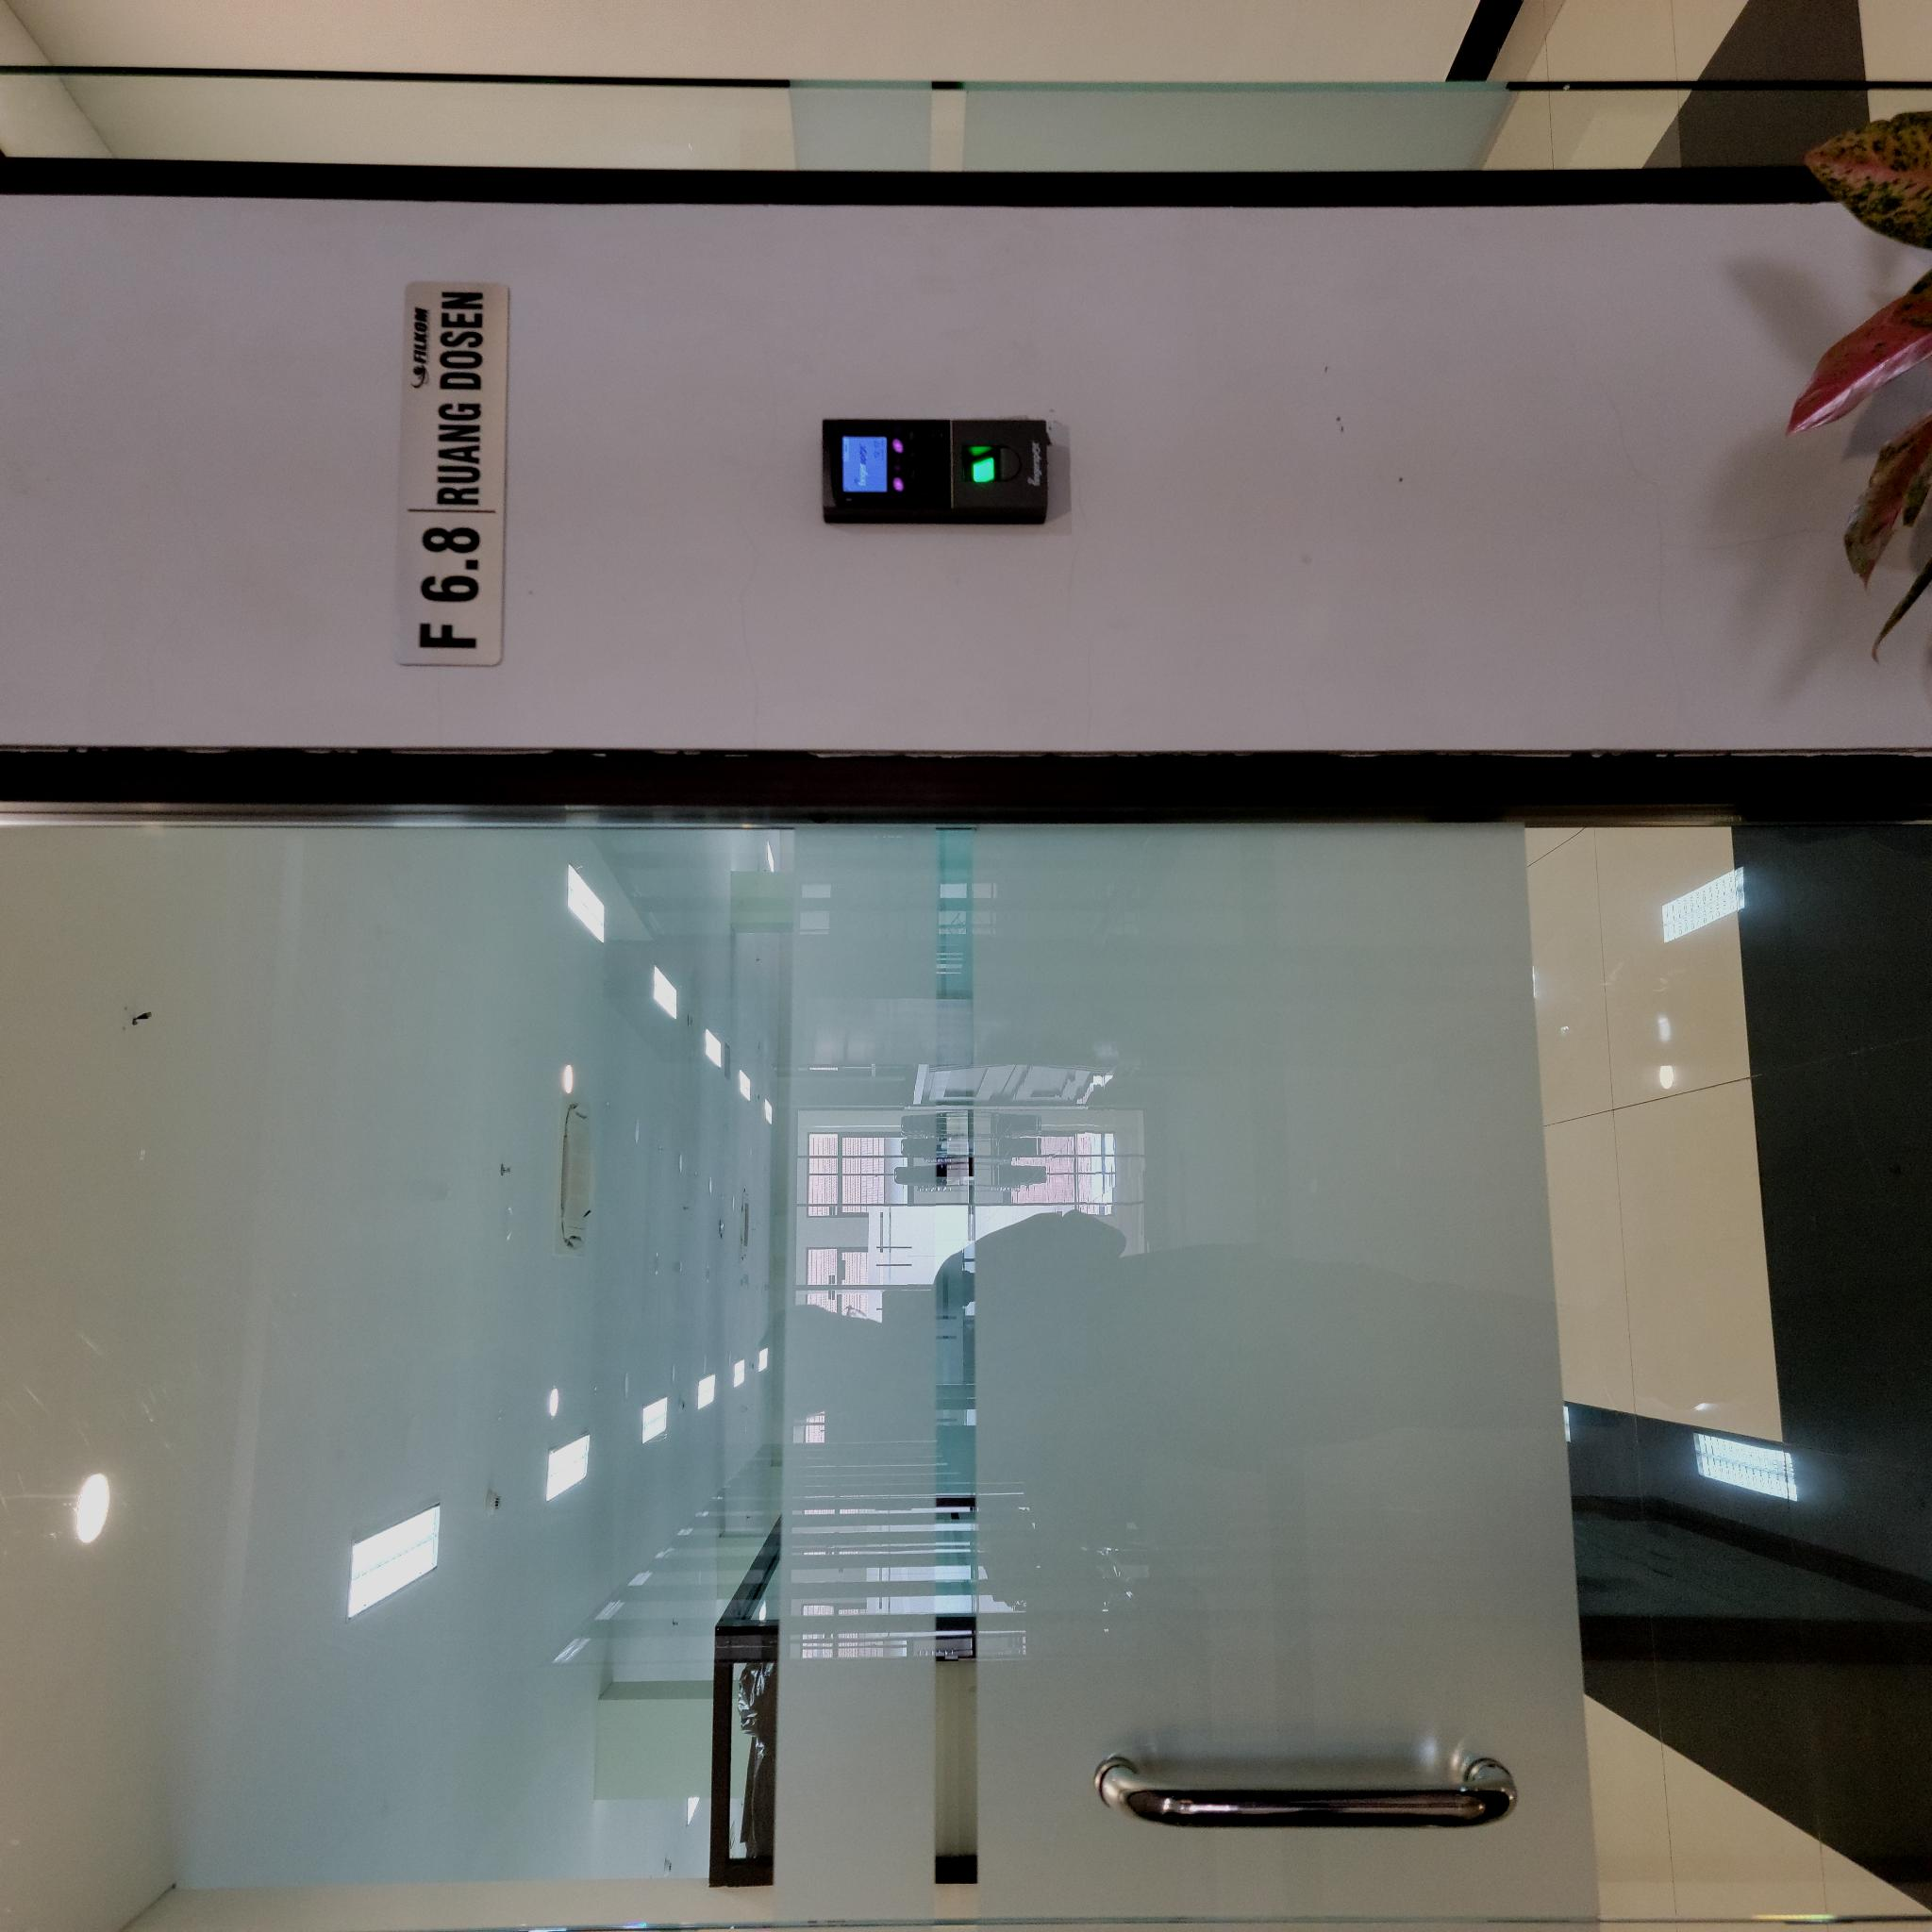plate: (1267, 393, 1652, 511)
